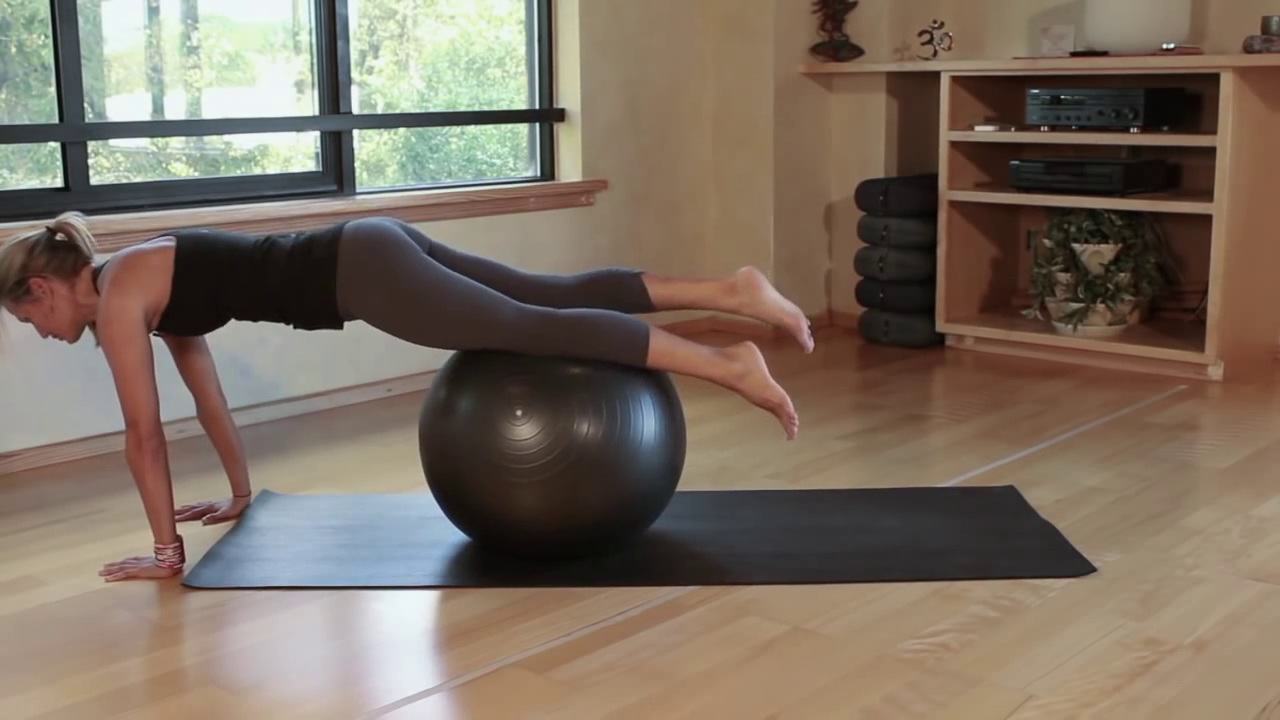yogaball: (409, 344, 694, 566)
